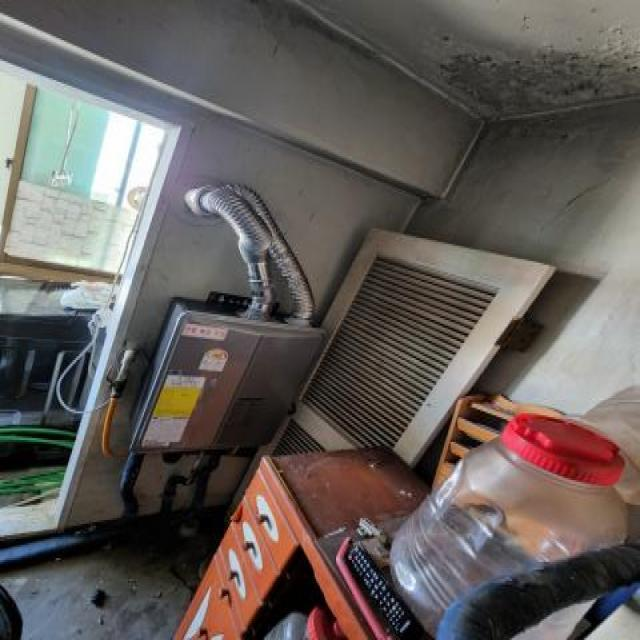Boiler: (114, 270, 338, 490)
